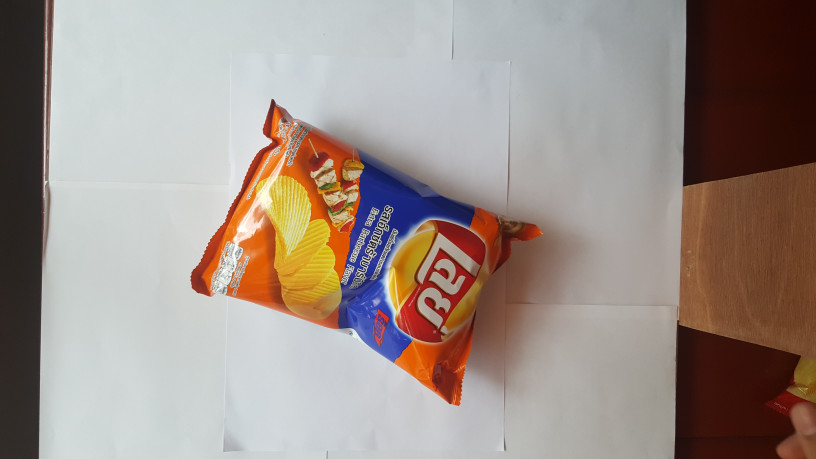lays-bbq: (174, 89, 547, 411)
